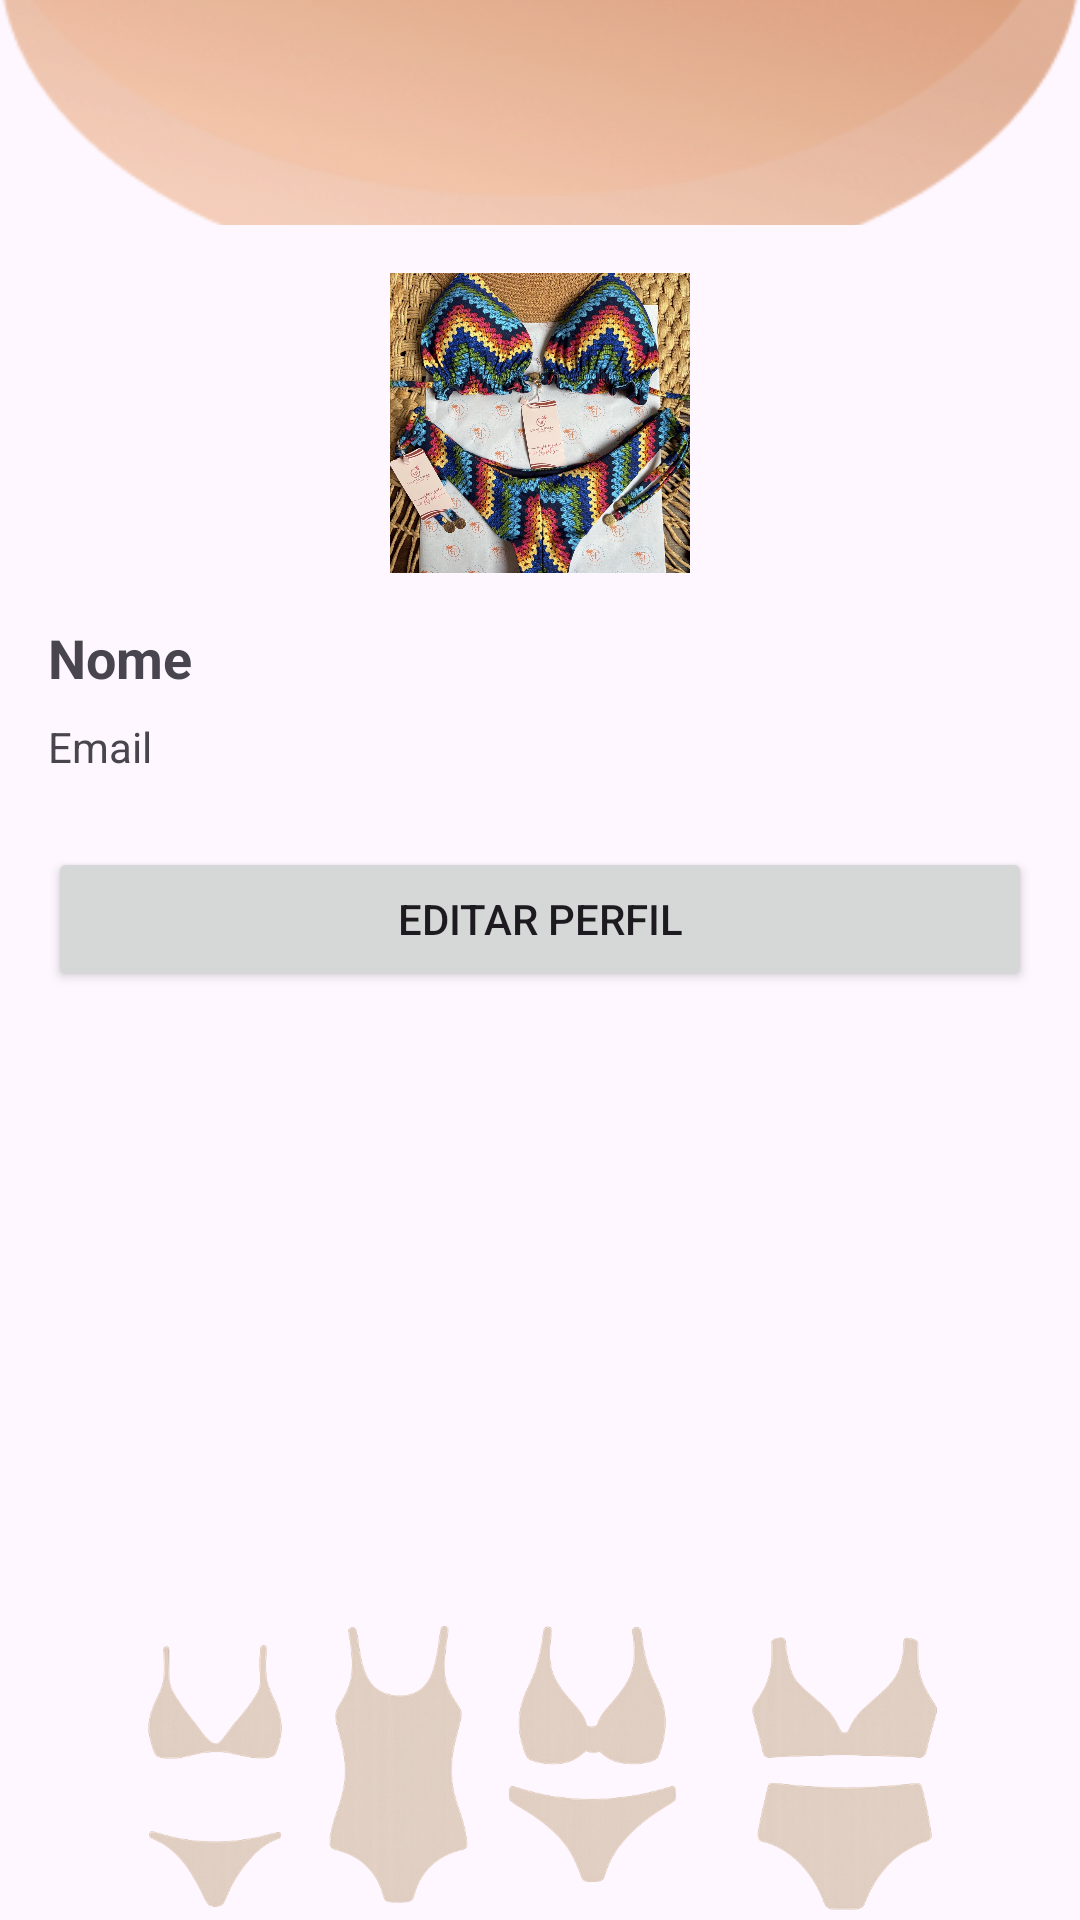

Where to tap for icons on this 1080px x 1920px app screen, as point (x, y):
produto exemplo: point (540, 423)
